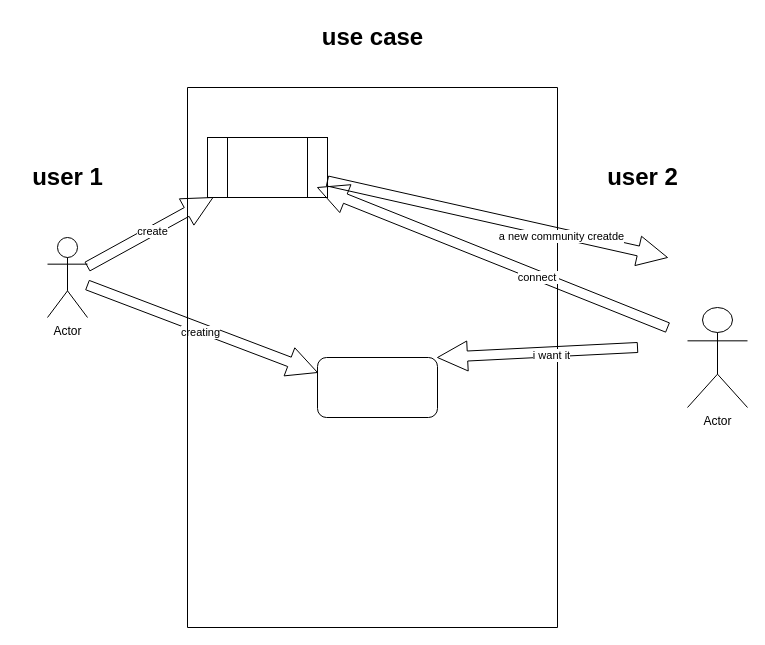
Image size: 765x645. Some labels were removed from this diagram. Here are the shapes that lost their labels. From the top down, the centre of each, then its label:
At point (267, 167): "community".
At point (377, 387): "task".
